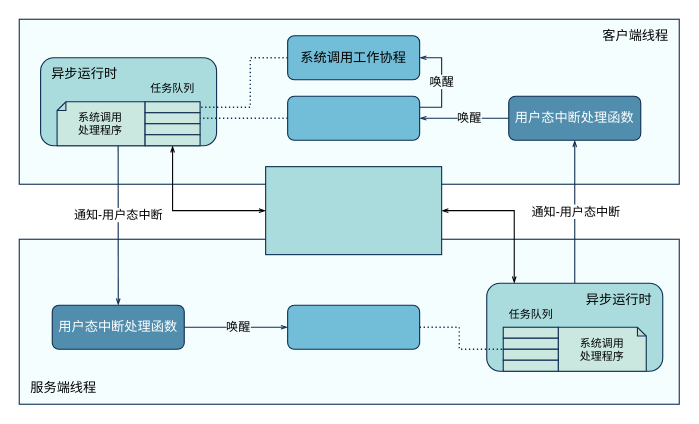
Image size: 699x424. Some labels were removed from this diagram. The centre of each missing label's shape, as x and y in pixels:
"共享内存" goes at pixel 353 210.
"回复 调度协程" goes at pixel 353 117.
"请求 调度协程" goes at pixel 353 326.
